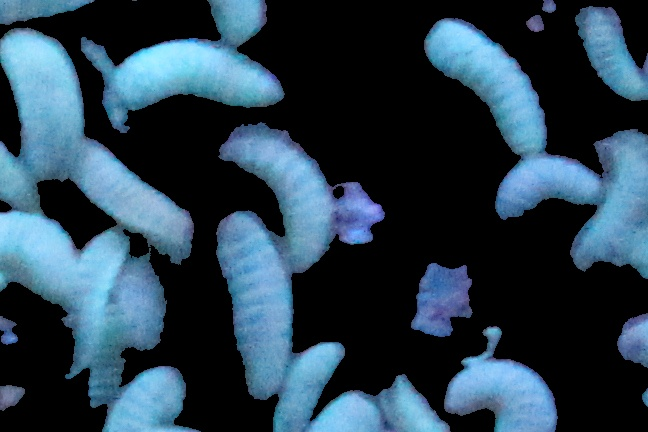larvae: (420, 17, 542, 152), (223, 124, 333, 268), (216, 207, 293, 398), (75, 143, 190, 258), (116, 39, 288, 114), (4, 28, 85, 177), (575, 121, 648, 271), (62, 229, 131, 380), (107, 256, 168, 401), (444, 364, 574, 432), (1, 208, 80, 294), (491, 159, 591, 221), (284, 342, 352, 432), (110, 371, 192, 431), (368, 374, 452, 432), (204, 1, 274, 52), (1, 143, 48, 216), (595, 13, 637, 94), (319, 394, 385, 431), (1, 1, 112, 21)
